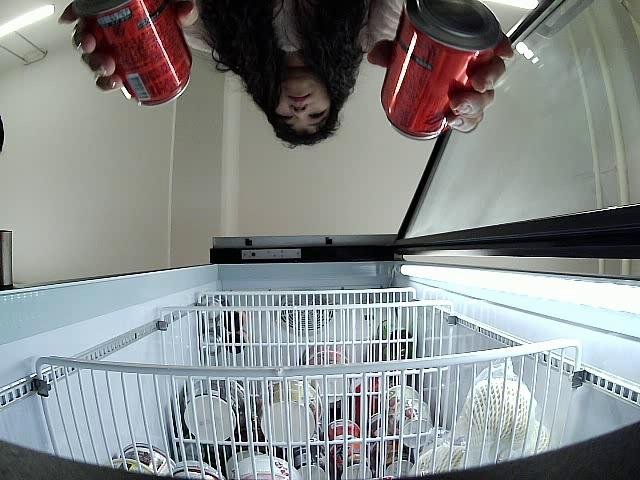00_hand: (369, 37, 514, 132), (56, 0, 199, 91)
11_cocaColaZero: (381, 0, 501, 141), (72, 0, 193, 105)
